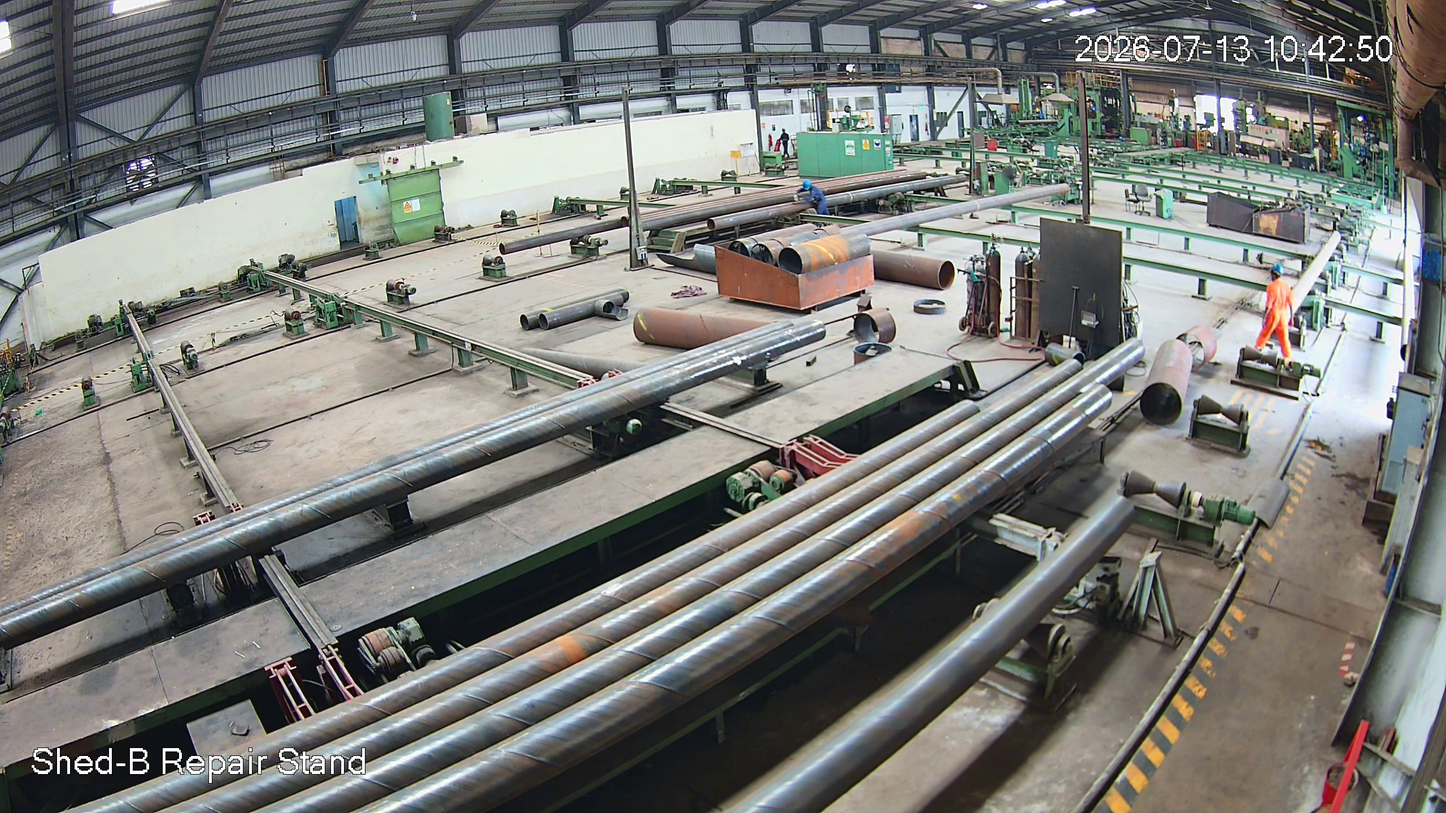Helmet: (1268, 262, 1292, 289)
Person: (1261, 265, 1296, 358)
